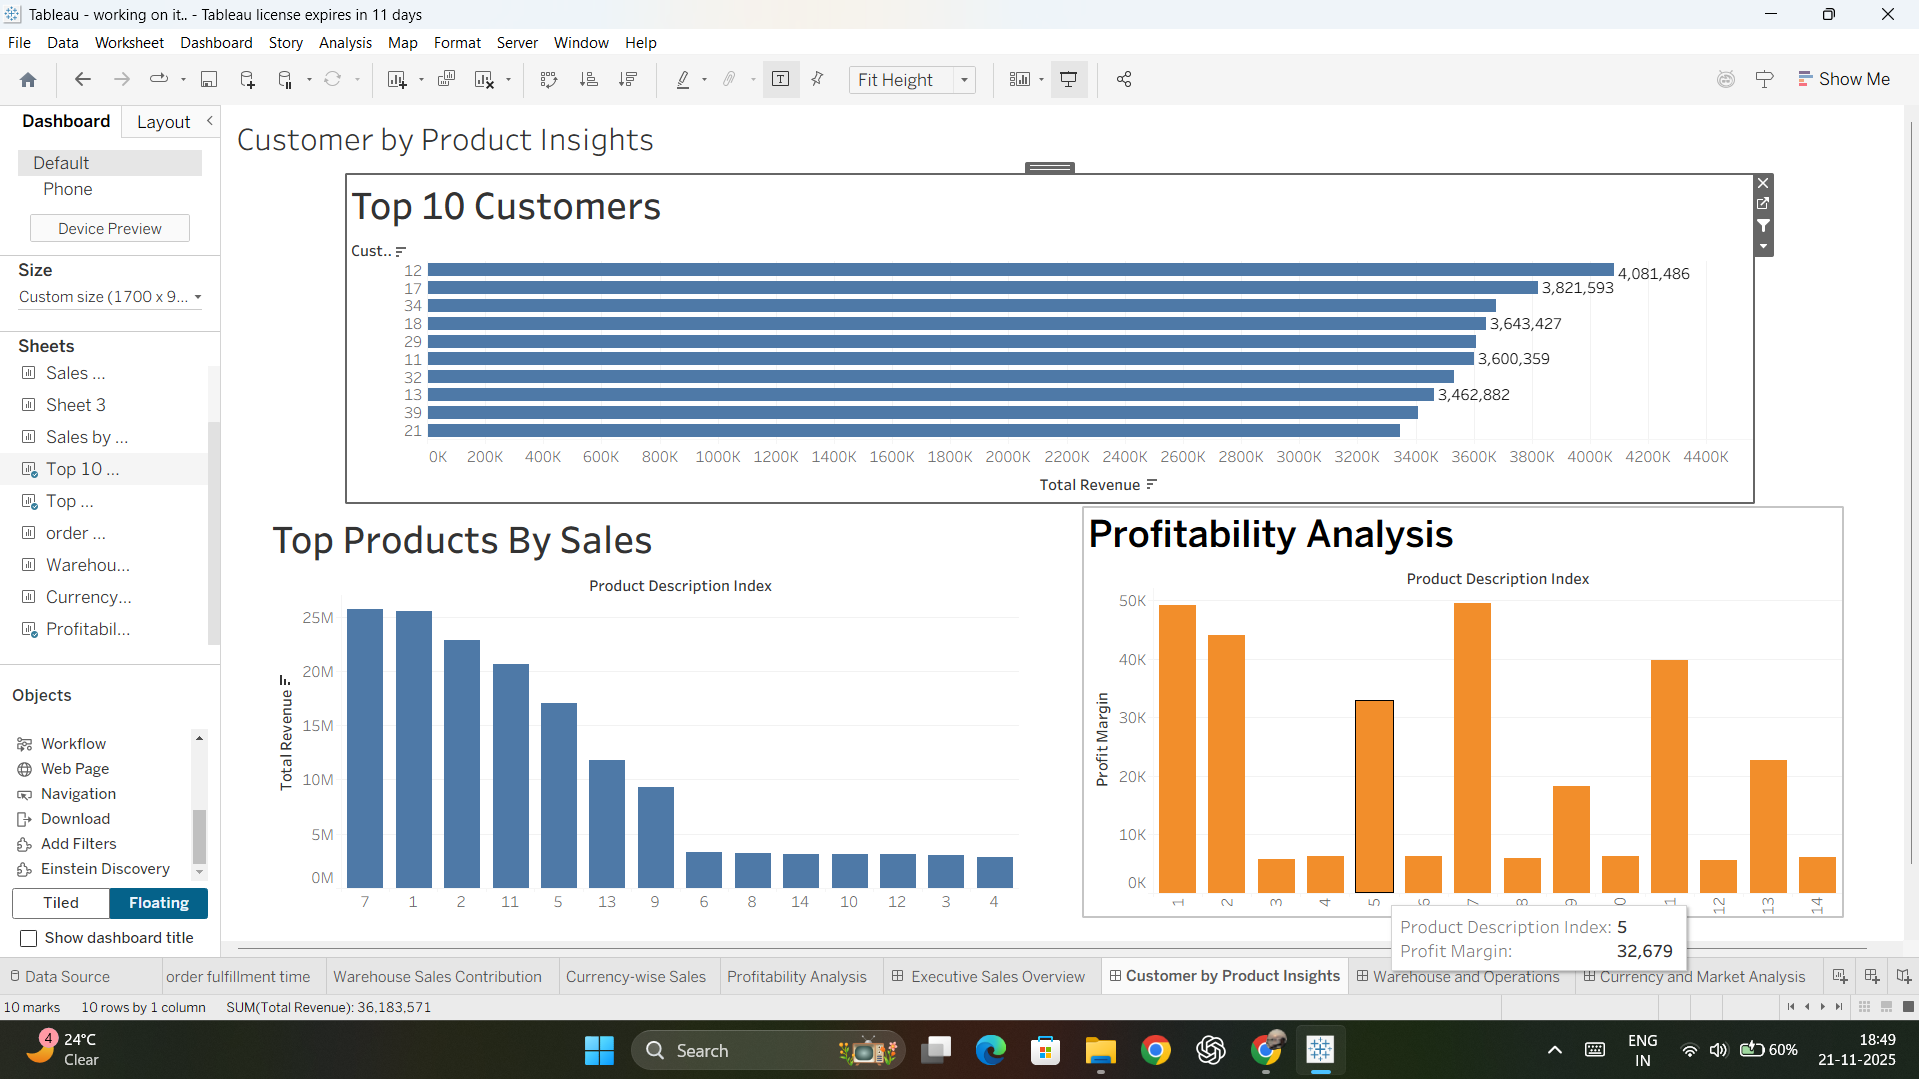

What the dashboard file says about the page in this screenshot:
{"tool":"tableau","page":{"name":"Customer by Product Insights","canvas":[1700,900],"ordinal":2},"visuals":[{"type":"title","box":[8,8,1684,50]},{"type":"worksheet","title":"Top 10 Customers","mark":"Automatic","rows":["Customer Name Index"],"cols":["Total Revenue"],"box":[126,70,1406,327]},{"type":"worksheet","title":"Profitability Analysis","mark":"Automatic","rows":["Calculation_957014929488502785"],"cols":["Product Description Index"],"box":[863,403,758,408]},{"type":"worksheet","title":"Top Products By Sales","mark":"Automatic","rows":["Total Revenue"],"cols":["Product Description Index"],"box":[47,404,751,404]}]}

Visuals, with their boxes on the page's 1700x900 design canvas (x1, y1, x2, y2). These are canvas units, not pixel positions in the 1919x1079 screenshot, which may show the page scaled, cropped or inside an application window:
title: {"left": 8, "top": 8, "right": 1692, "bottom": 58}
"Top 10 Customers" worksheet: {"left": 126, "top": 70, "right": 1532, "bottom": 397}
"Profitability Analysis" worksheet: {"left": 863, "top": 403, "right": 1621, "bottom": 811}
"Top Products By Sales" worksheet: {"left": 47, "top": 404, "right": 798, "bottom": 808}
